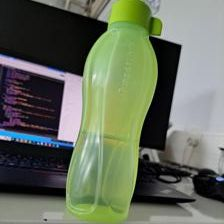bottle: (62, 0, 167, 221)
